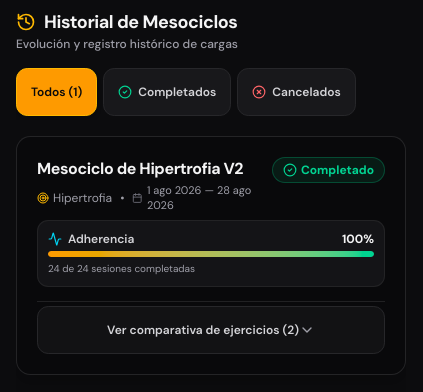
Test: TASK-40: RoutineHistoryPage — Completed & Cancelled Mesocycle History (RF-06, Constitución Art. 2, Art. 6) › Filtros de Visualización por Estado › should show filter empty message when no items match the selected filter
The width and height of the screenshot is (423, 392).
Click "Cancelados"
Click the button "Cancelados" at (296, 92), box [237,68,356,116]
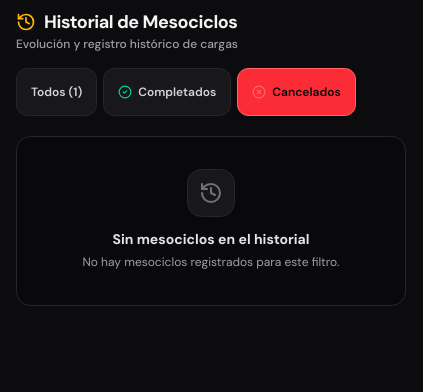
Expected: the element with test id "history-empty-state" is shown, [16,136,406,306]
Expected: the text "No hay mesociclos registrados para este filtro." is shown, [82,253,340,272]
